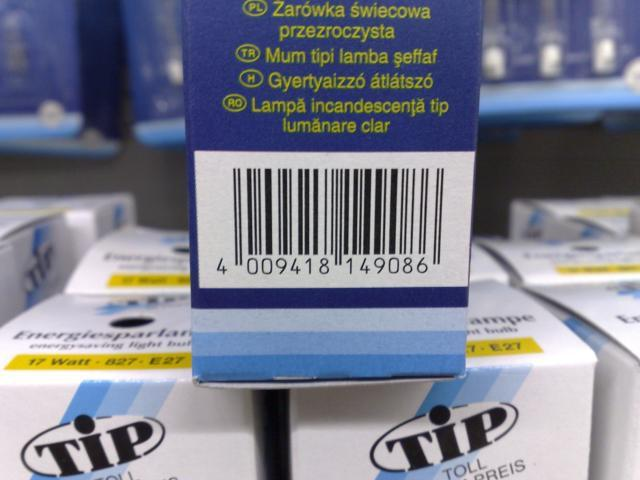Barcode: (203, 162, 451, 284)
